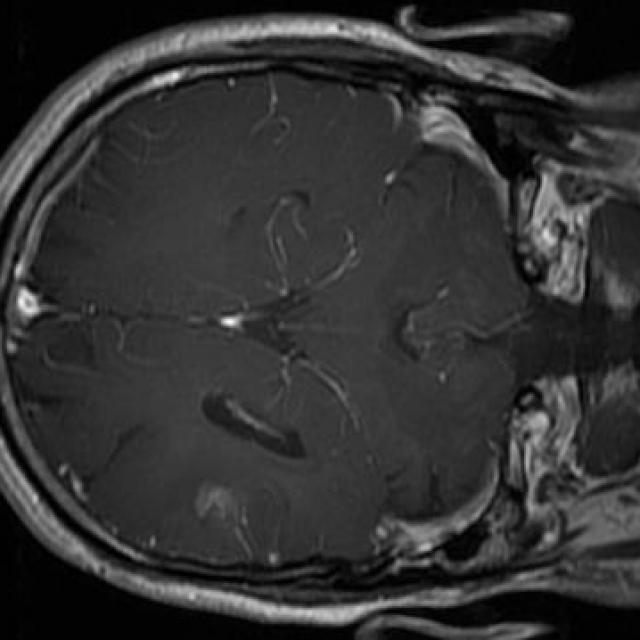glioma: (201, 394, 307, 458)
